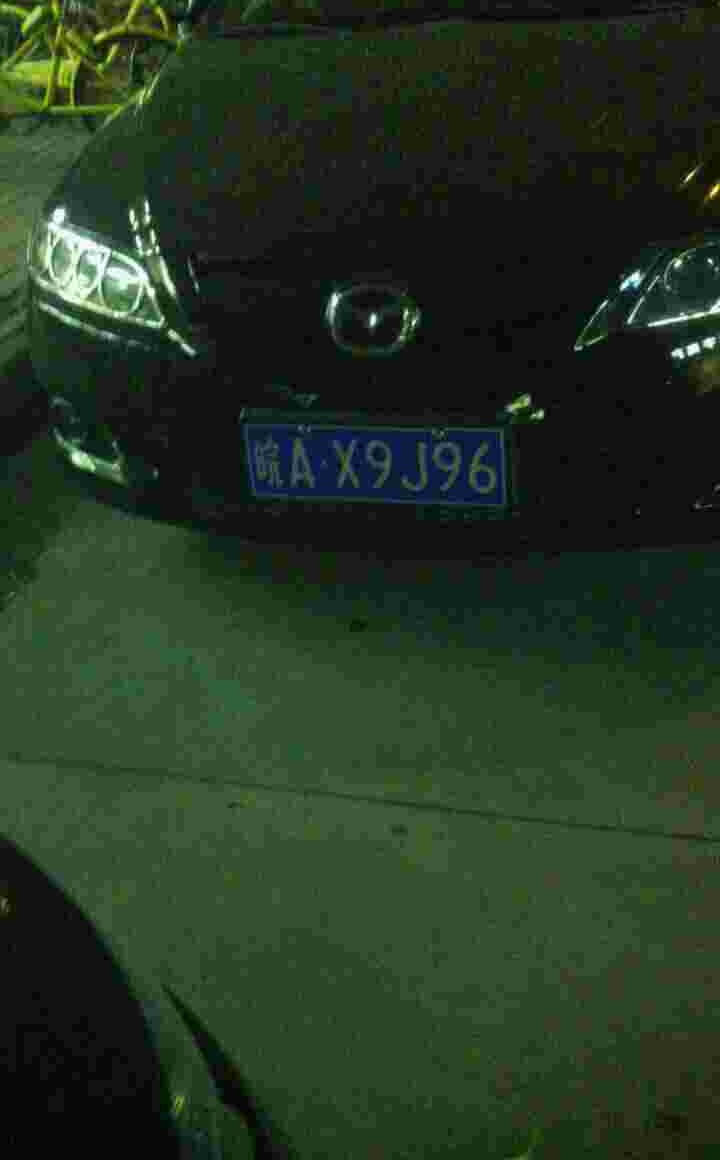license_plate: (234, 425, 514, 506)
